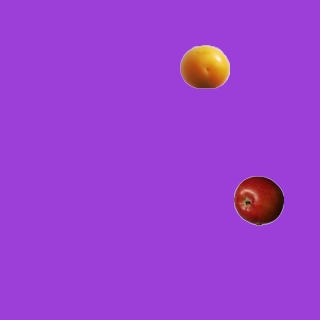Apple Braeburn: (233, 175, 283, 225)
Cherry Wax Yellow: (179, 41, 229, 91)
